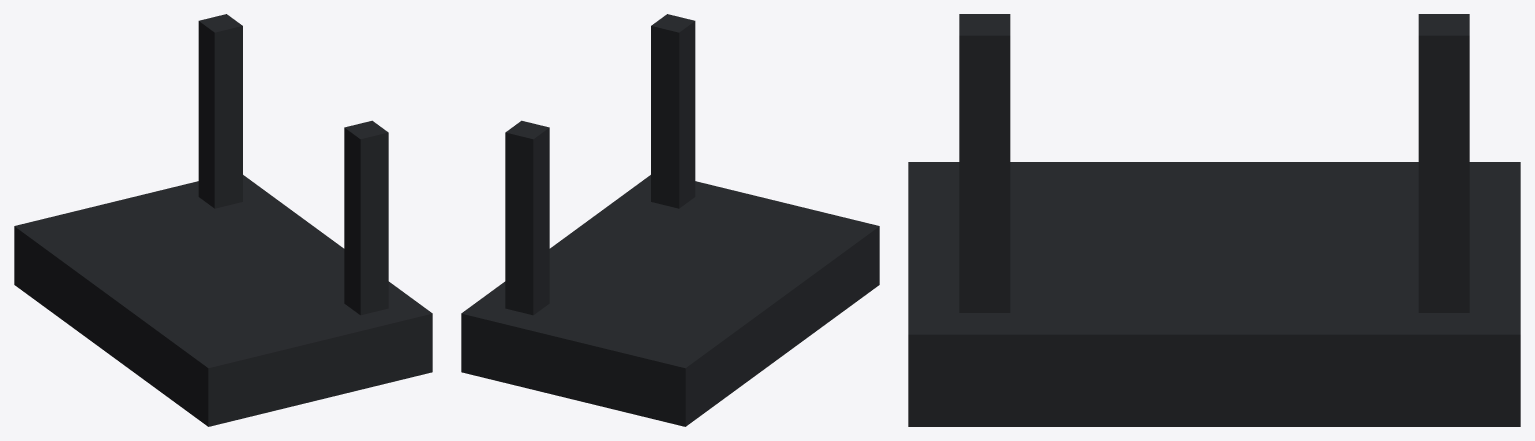
File: router.gltf
3 views of the same model, side by side, from view 1: azimuth 30°, elevation 25°; view 2: azimuth 150°, elevation 25°; view 3: azimuth 270°, elevation 25° (orthographic). The views are drawn at different scales.
Visible parts, largest first — view 1: cube (×3); view 2: cube (×3); view 3: cube (×3).
Boxes of the visible parts, x1,y1,x2,y2 form: cube (×3): [14, 14, 432, 426]; cube (×3): [461, 14, 879, 426]; cube (×3): [908, 14, 1520, 426].
Bounding box in the file's own units: 0.25 × 0.25 × 0.375.
1 material, 1 textured.
